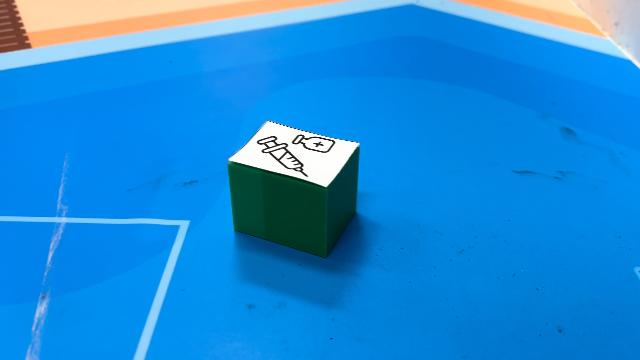syringe: (227, 120, 361, 258)
